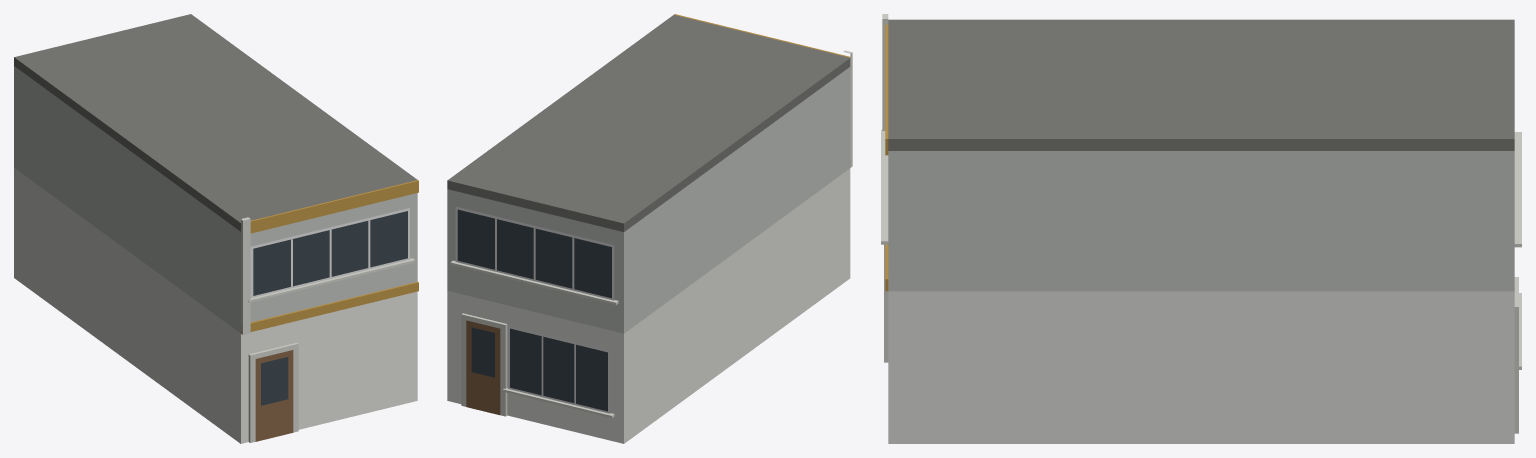
The model's file is zo-ko-patio__yellow__2__flat__long__solid.glb.
3 views of the same model, side by side, from view 1: azimuth 30°, elevation 25°; view 2: azimuth 150°, elevation 25°; view 3: azimuth 270°, elevation 25° (orthographic). The views are drawn at different scales.
Parts seen in each view (by area): view 1: zo-ko-patio__yellow__2__flat__long__solid; view 2: zo-ko-patio__yellow__2__flat__long__solid; view 3: zo-ko-patio__yellow__2__flat__long__solid.
Boxes of the visible parts, box(x1,y1,x2,y2) form: zo-ko-patio__yellow__2__flat__long__solid: box(14, 14, 418, 443); zo-ko-patio__yellow__2__flat__long__solid: box(447, 14, 852, 443); zo-ko-patio__yellow__2__flat__long__solid: box(881, 14, 1521, 443).
Size of the model in its own units: 4.69 by 5.7 by 10.65.
